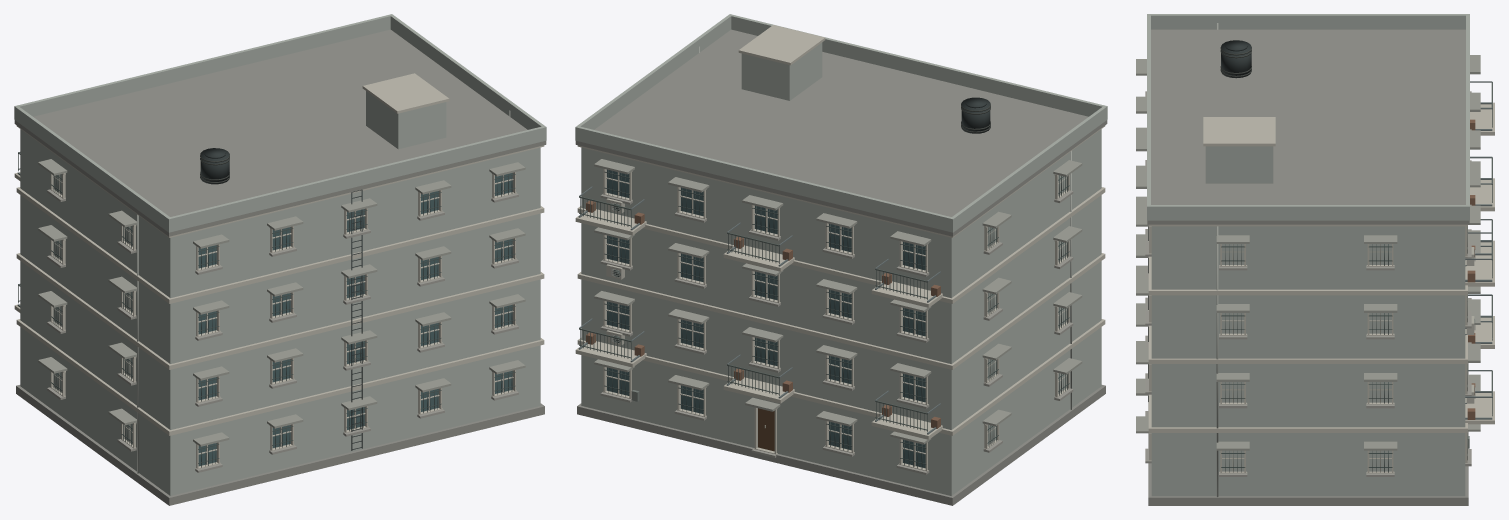
Rendered from apartments_4.glb.
The picture shows the model from 3 angles, left to right: view 1: azimuth 30°, elevation 25°; view 2: azimuth 150°, elevation 25°; view 3: azimuth 270°, elevation 25°; orthographic projection. The views are drawn at different scales.
Visible parts, largest first — view 1: apartments_4; view 2: apartments_4; view 3: apartments_4.
Part boxes in pixels (x1=…): apartments_4: x1=14, y1=14, x2=546, y2=505; apartments_4: x1=575, y1=14, x2=1107, y2=505; apartments_4: x1=1136, y1=14, x2=1494, y2=505.
Size of the model in its own units: 19.83 by 14.96 by 14.88.
